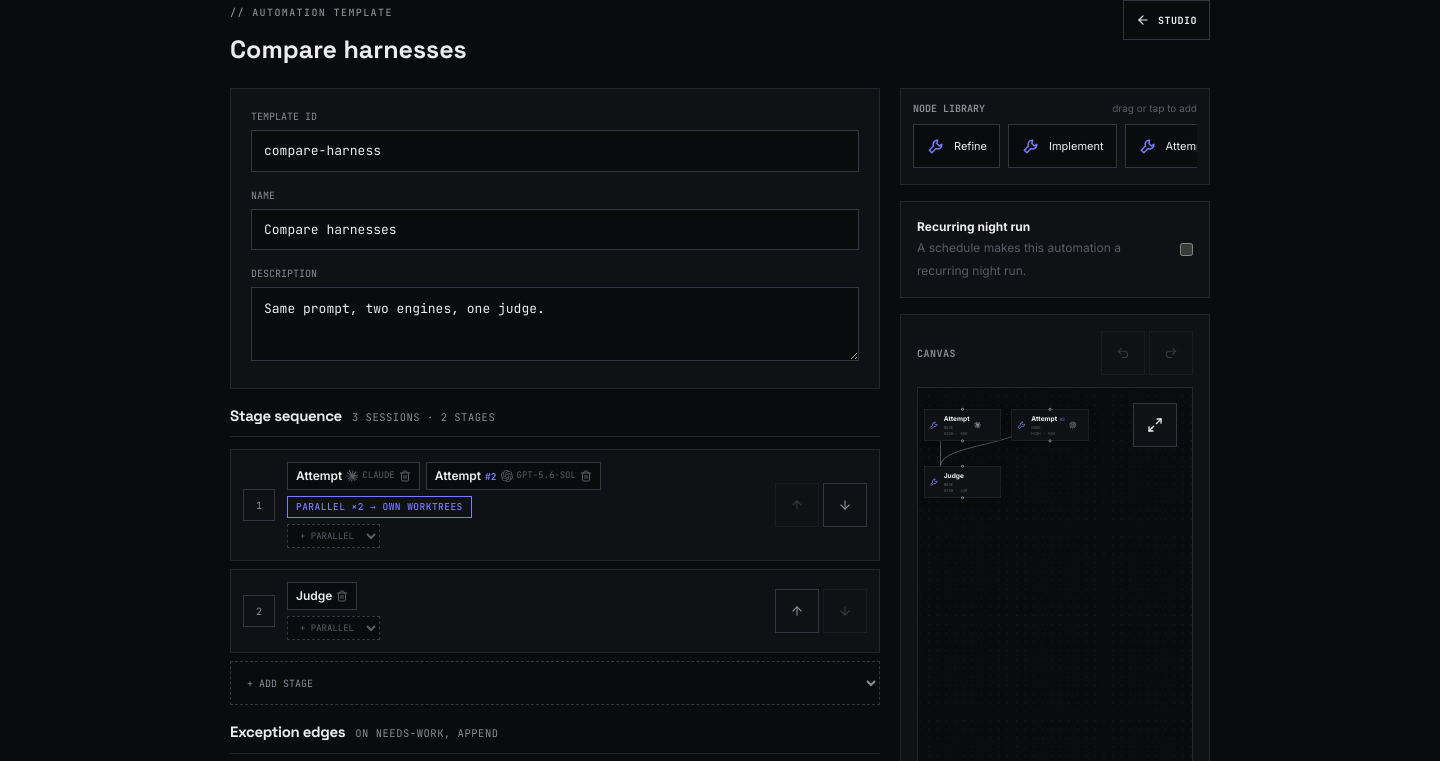
Test case: template editor · harness comparison › reads an existing template's member pins back into the form
Click the element with test id "graph-node-h:0:1:attempt#2" at x=1050, y=425, box left=1012, top=409, right=1089, bottom=441
(page scrolled)
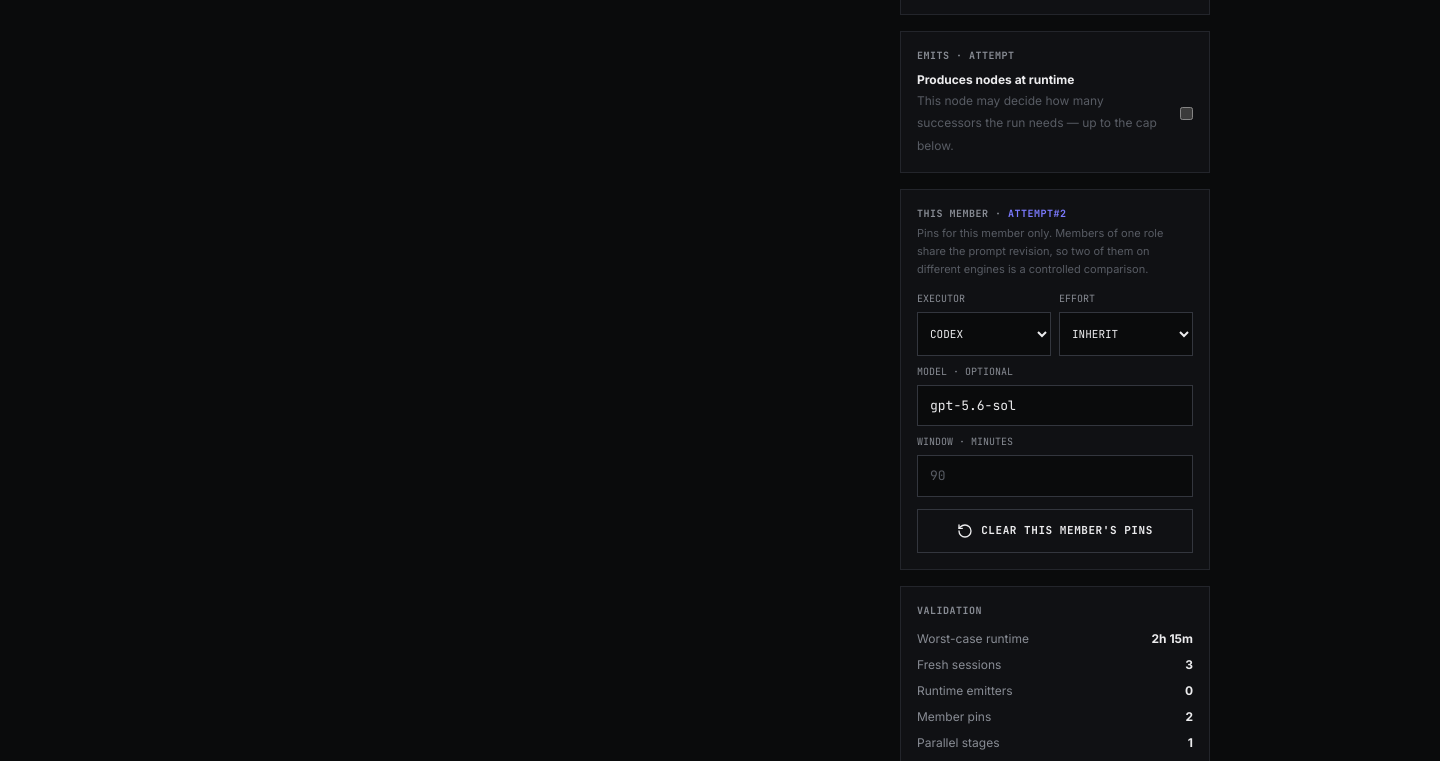
Expected: the element with test id "member-runtime-panel" shows "attempt#2", left=1008, top=207, right=1066, bottom=220
Expected: the dropdown named "Member executor" shows "codex", left=917, top=312, right=1051, bottom=356
Expected: the field named "Member model" holds "gpt-5.6-sol", left=917, top=385, right=1193, bottom=426
